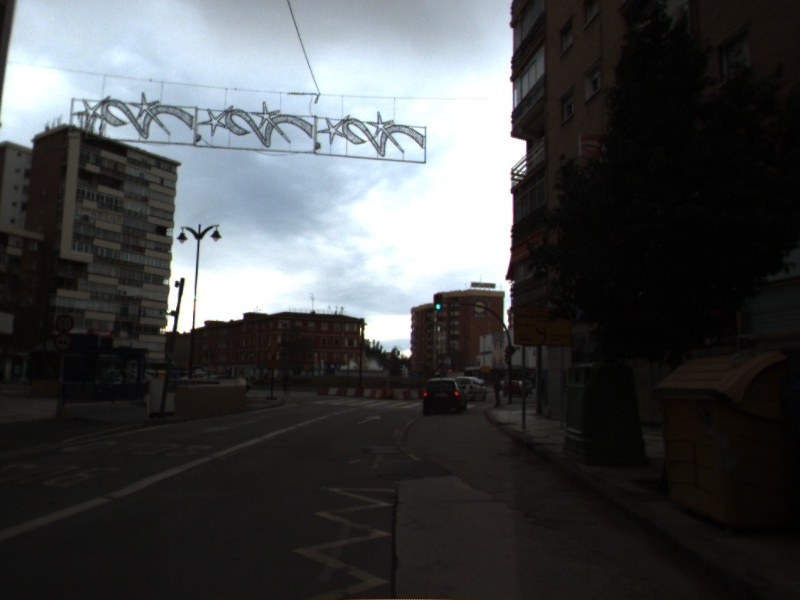STRAIGHT: (355, 413, 384, 427)
